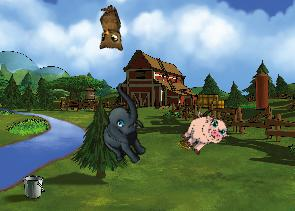elephant: (80, 82, 168, 171)
owl: (87, 3, 128, 56)
pig: (176, 105, 232, 161)
